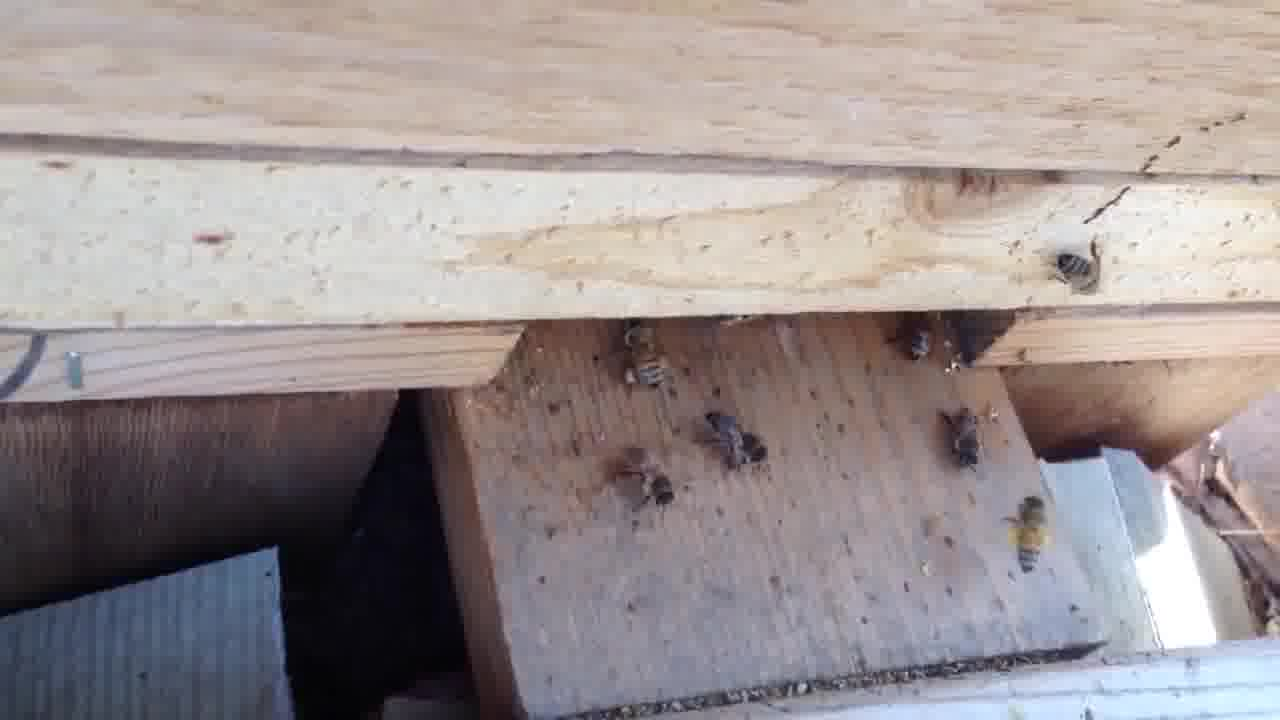pollen: (1000, 489, 1051, 575)
